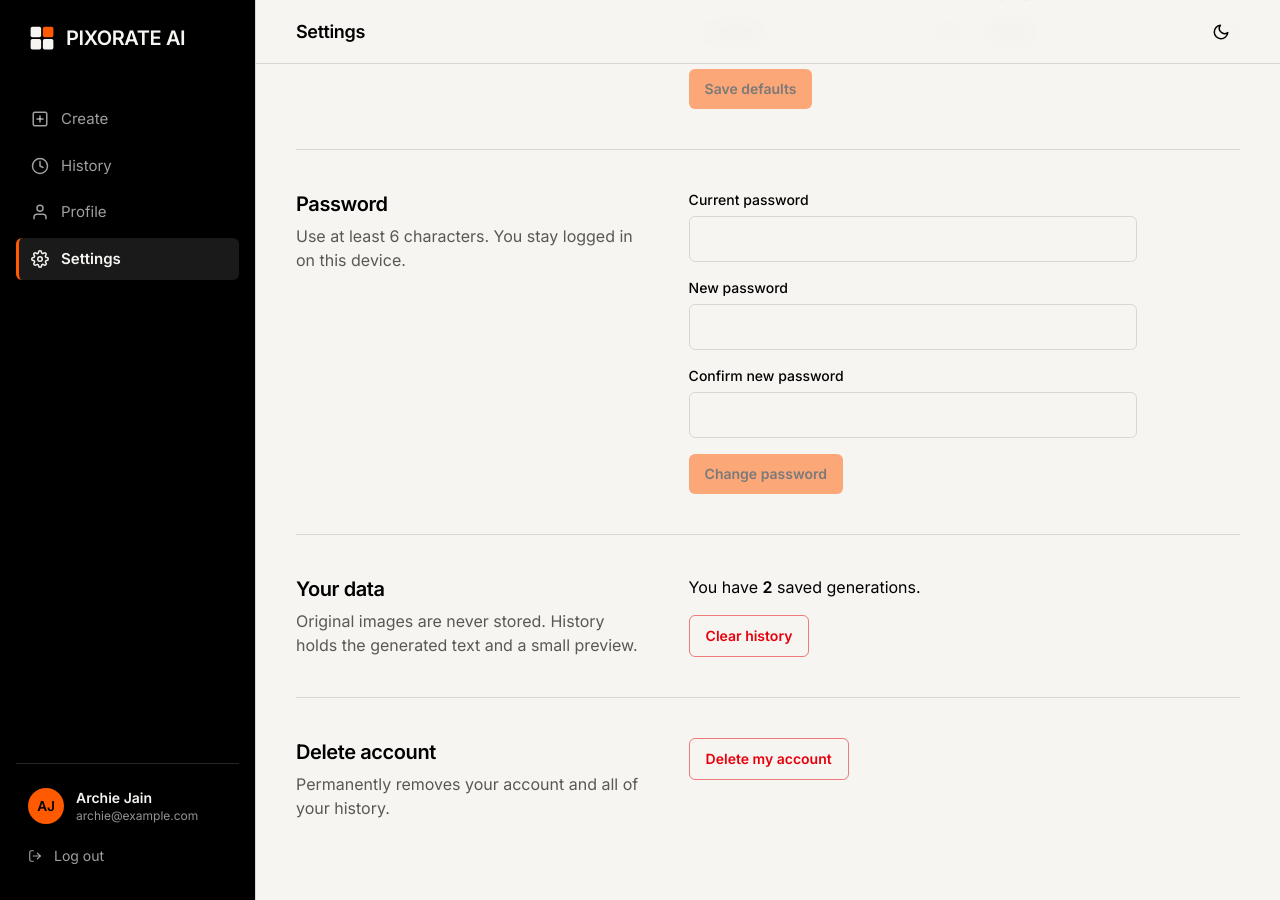
Test: settings › clearing history is confirmed, then empties the count
(page scrolled)
Click the button "Clear history" at {"x": 749, "y": 636}, box [689,615,809,657]
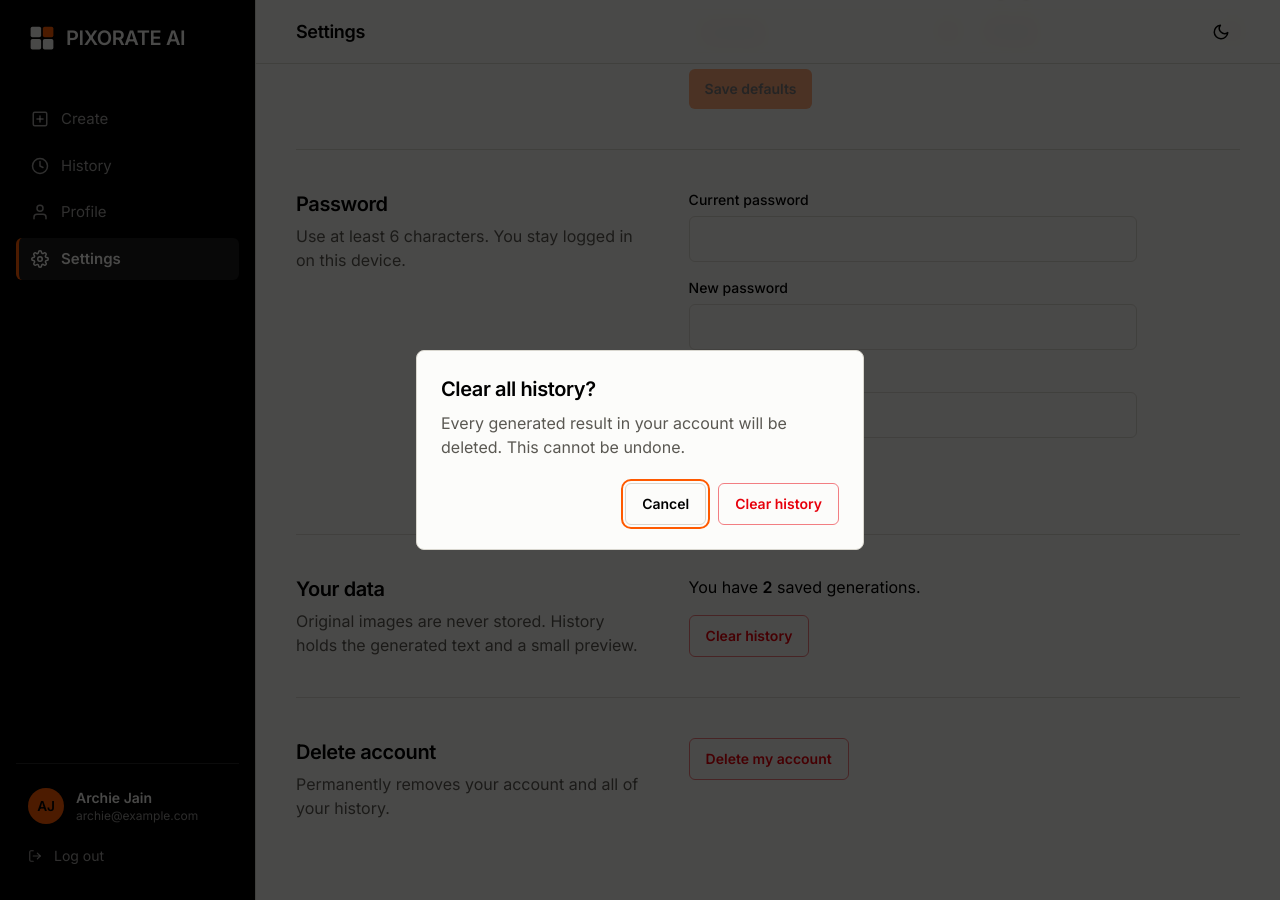
Click the button "Clear history" at {"x": 779, "y": 504}, box [718,483,839,525]
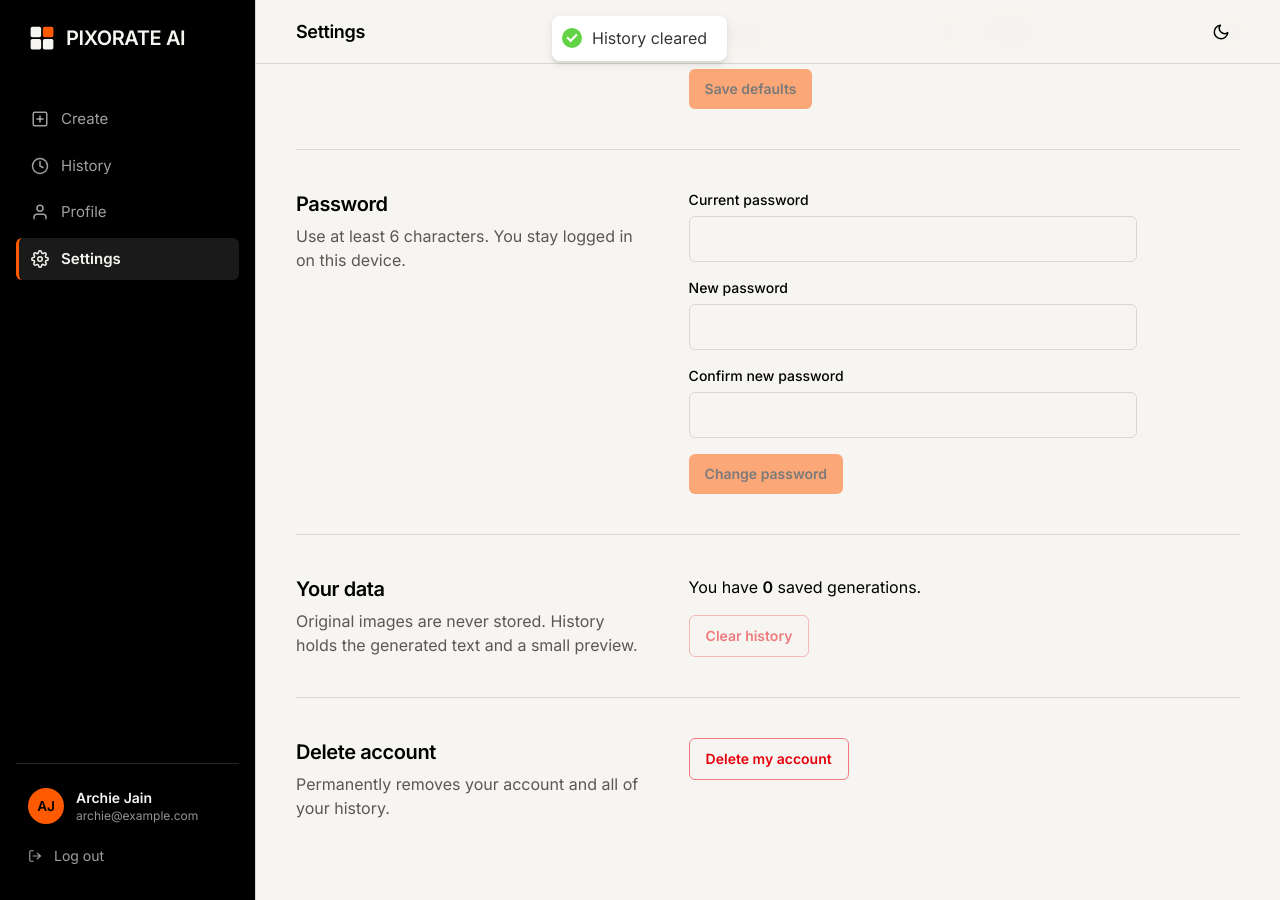
Check: the button "Clear history" is disabled, box [689,615,809,657]
